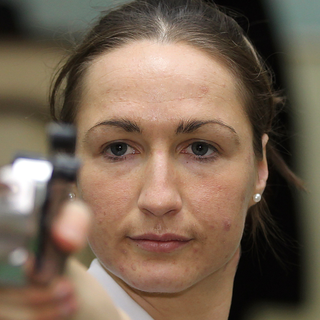eye: (176, 136, 226, 164), (96, 136, 143, 164)
